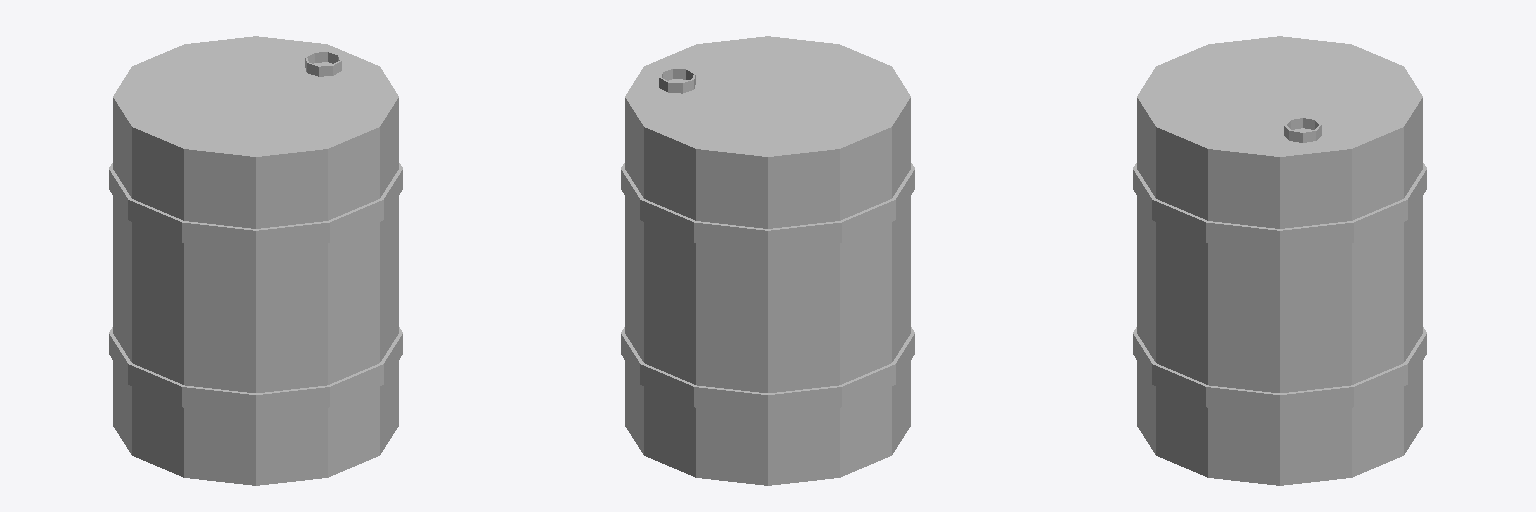
The model's file is Oil drum.obj.
3 renders of one model, left to right at view 1: azimuth 30°, elevation 25°; view 2: azimuth 150°, elevation 25°; view 3: azimuth 270°, elevation 25°, orthographic.
Visible parts, largest first — view 1: oil_drum; view 2: oil_drum; view 3: oil_drum.
Part boxes in pixels (x1,y1,x2,y2): oil_drum: (109, 36, 402, 485); oil_drum: (621, 36, 914, 485); oil_drum: (1133, 36, 1426, 485).
Size of the model in its own units: 30.16 by 38.3 by 30.16.